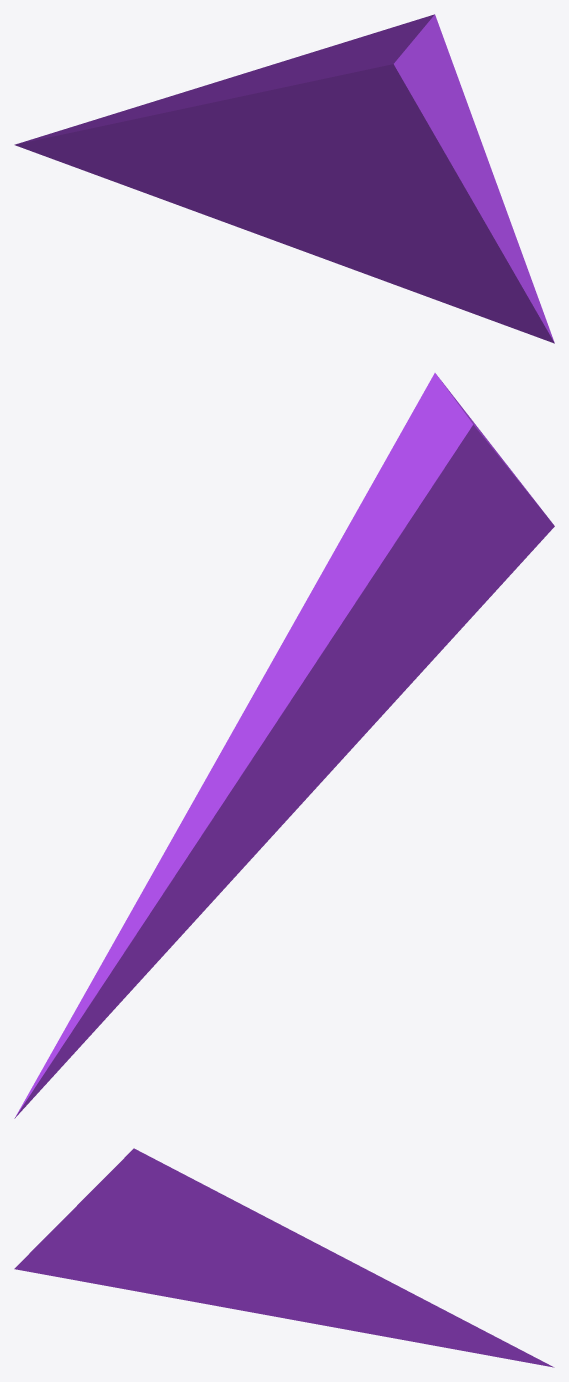
File: Glass_68_6_chunks.fbx
3 renders of one model, top to bottom at view 1: azimuth 30°, elevation 25°; view 2: azimuth 150°, elevation 25°; view 3: azimuth 270°, elevation 25°, orthographic. The views are drawn at different scales.
Visible parts, largest first — view 1: Glass_68_6_0; view 2: Glass_68_6_0; view 3: Glass_68_6_0.
Part boxes in pixels (x1,y1,x2,y2): Glass_68_6_0: [14, 14, 554, 343]; Glass_68_6_0: [14, 373, 554, 1118]; Glass_68_6_0: [14, 1148, 554, 1367].
Bounding box in the file's own units: 12.24 × 129 × 288.
